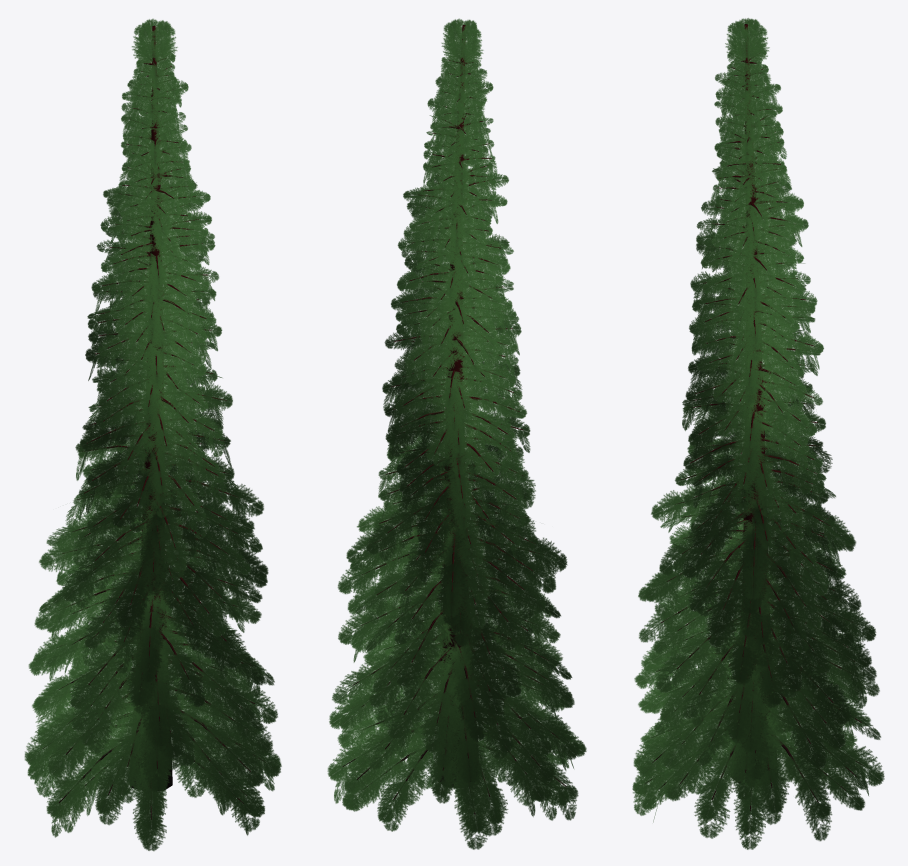
Rendered from spruce_conifer_v01_LOD1.glb.
3 views of the same model, side by side, from view 1: azimuth 30°, elevation 25°; view 2: azimuth 150°, elevation 25°; view 3: azimuth 270°, elevation 25° (orthographic).
Visible parts, largest first — view 1: spruce_conifer_v01_LOD1; view 2: spruce_conifer_v01_LOD1; view 3: spruce_conifer_v01_LOD1.
Boxes of the visible parts, x1,y1,x2,y2 form: spruce_conifer_v01_LOD1: (24, 18, 281, 851); spruce_conifer_v01_LOD1: (327, 18, 586, 849); spruce_conifer_v01_LOD1: (632, 18, 884, 849).
Bounding box in the file's own units: 7.22 × 23.05 × 7.16.
Materials: 2 (2 with a texture image).
